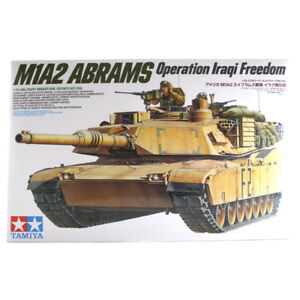Battle Tank: (26, 106, 285, 230)
